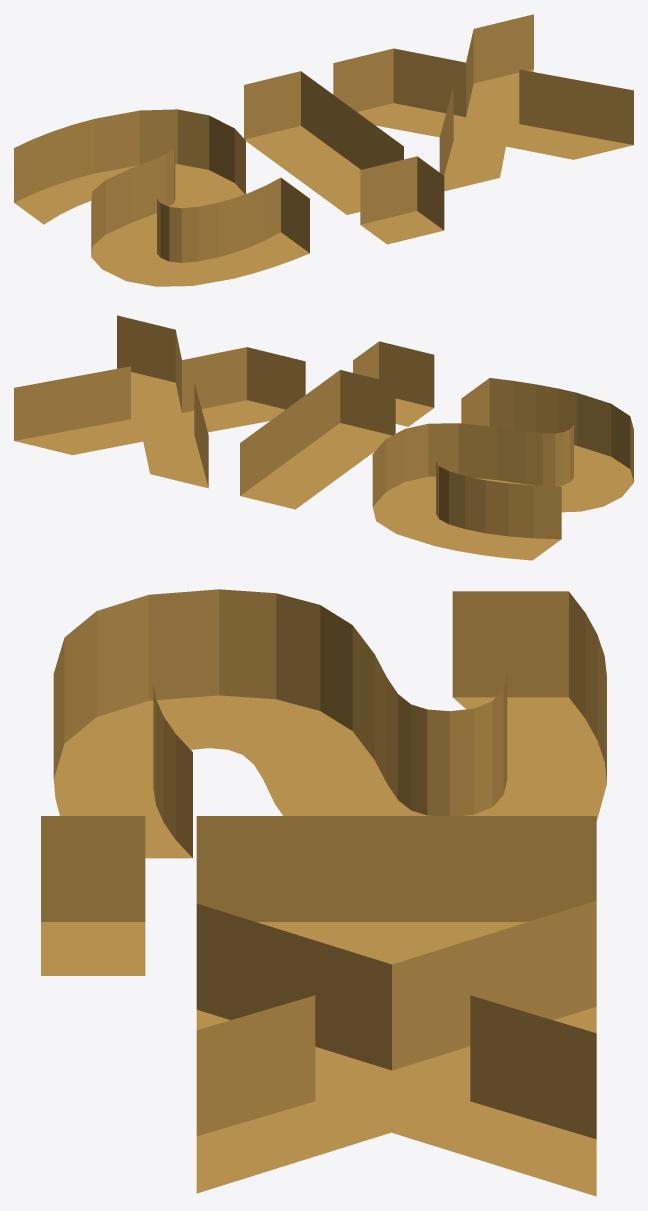
Rendered from fragment.glb.
3 renders of one model, top to bottom at view 1: azimuth 30°, elevation 25°; view 2: azimuth 150°, elevation 25°; view 3: azimuth 270°, elevation 25°, orthographic. The views are drawn at different scales.
Parts seen in each view (by area): view 1: SIX; view 2: SIX; view 3: SIX.
Part boxes in pixels (x1,y1,x2,y2): SIX: (14,14,633,286); SIX: (14,315,633,560); SIX: (41,589,606,1196).
Size of the model in its own units: 3.57 by 0.352 by 1.7.
